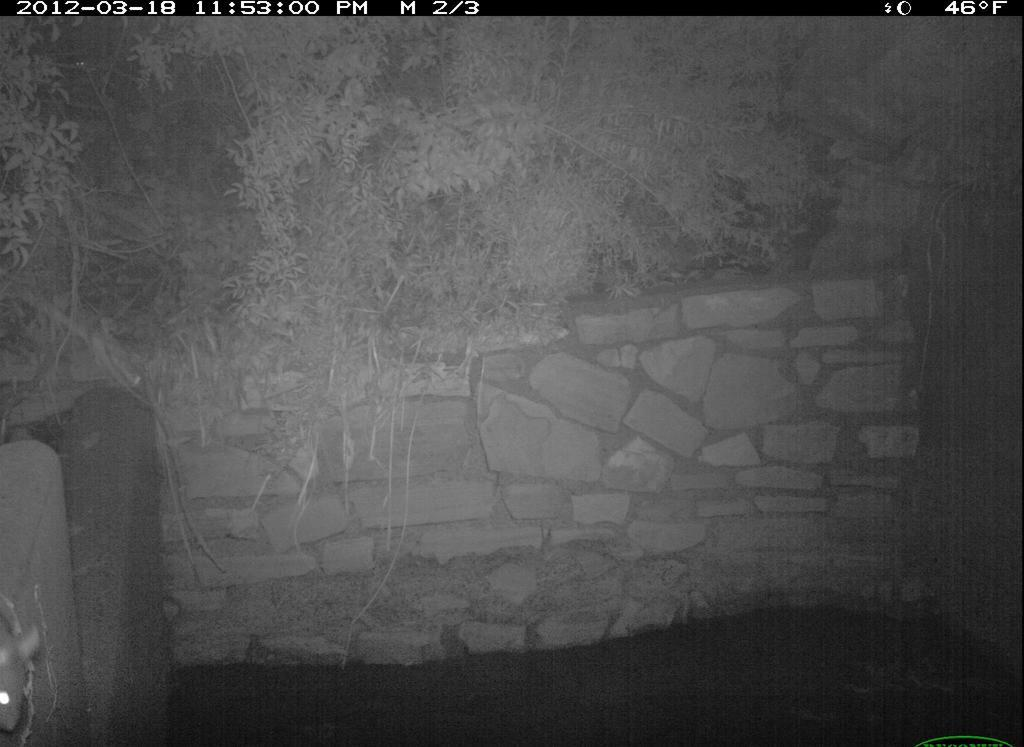rodent: (1, 615, 54, 747)
